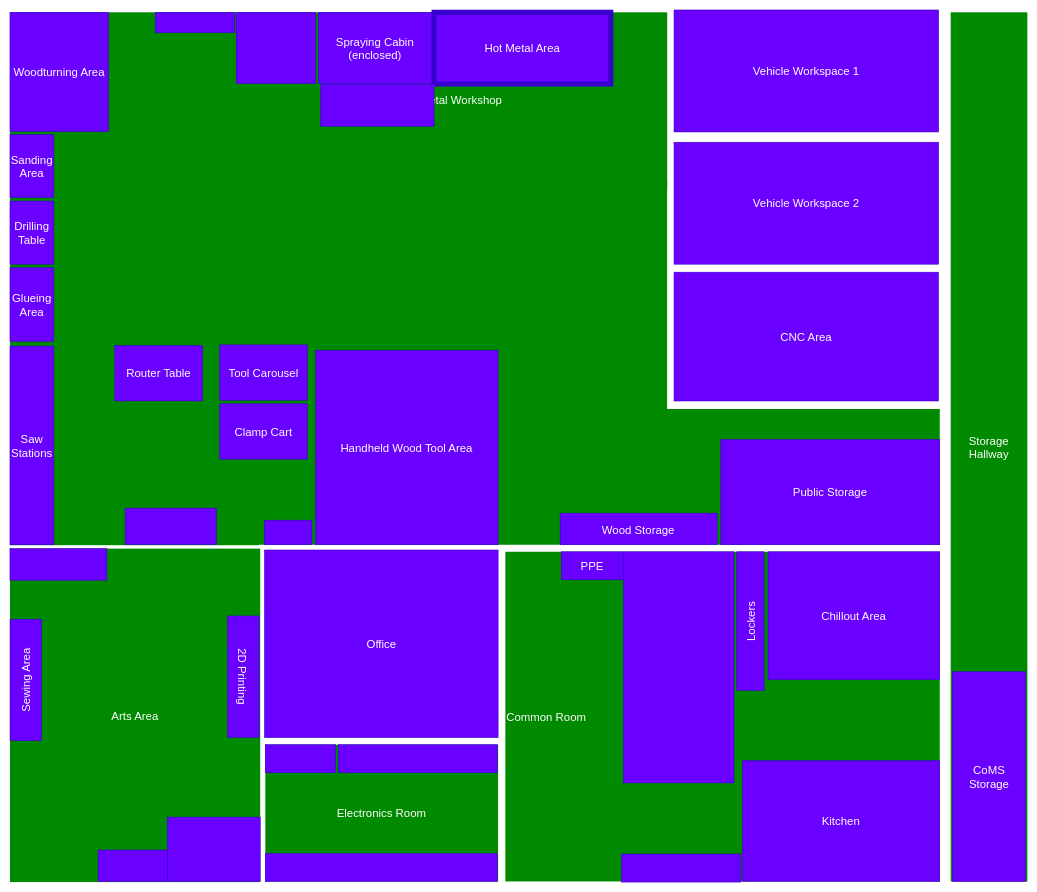
Image size: 1037x892. Some labels were removed from this diagram. The box of each missing label's shape, as (x1, y1, x2, y2) in pixels:
3D Printing Area: (265, 744, 336, 773)
Airbrush (enclosed): (167, 817, 260, 882)
Bike Stuff (open): (236, 12, 316, 84)
Cleaning: (155, 12, 235, 33)
Electronics Area: (338, 744, 497, 773)
Grinding Table: (320, 84, 434, 126)
Laser Area: (265, 853, 497, 881)
Measuring shelf: (264, 520, 312, 545)
Office Supply Shelf: (621, 853, 741, 882)
Precious Plastics Area: (125, 508, 216, 545)
Raumbox: (9, 548, 107, 580)
Screen Printing: (98, 849, 167, 882)
Seminar Area: (623, 551, 734, 783)
Wood Workshop: (256, 179, 667, 412)
